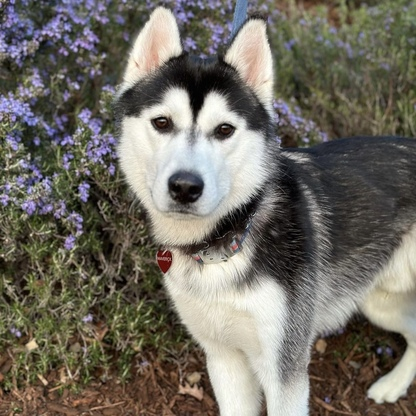husky: (105, 3, 416, 414)
